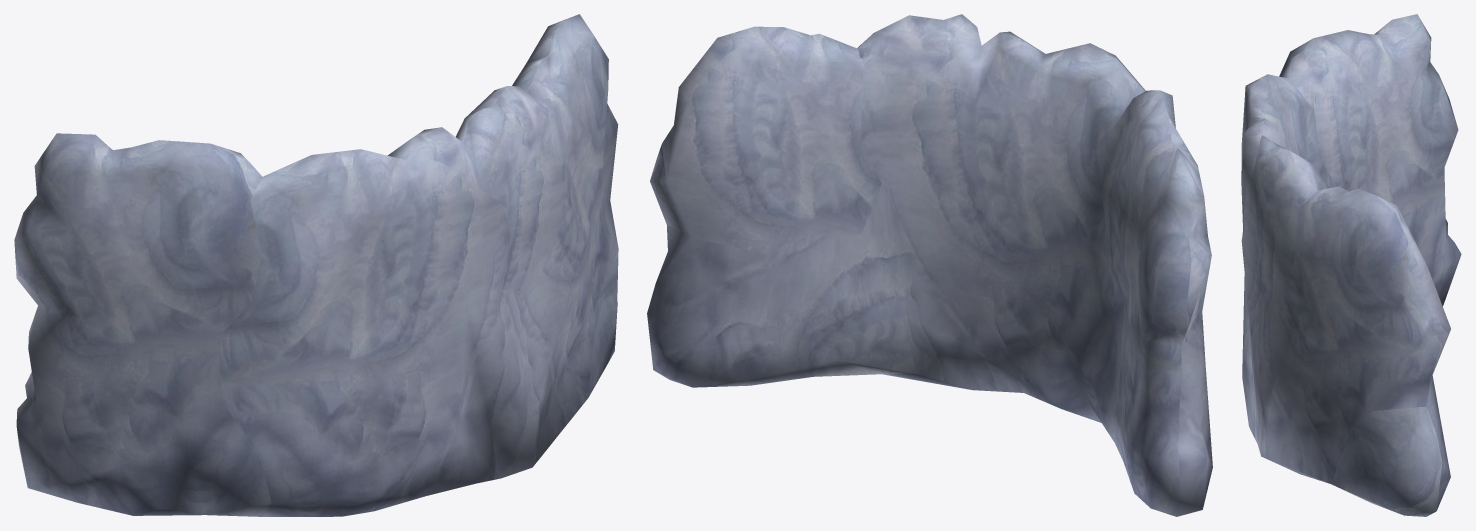
Rendered from gloowall.glb.
3 renders of one model, left to right at view 1: azimuth 30°, elevation 25°; view 2: azimuth 150°, elevation 25°; view 3: azimuth 270°, elevation 25°, orthographic. The views are drawn at different scales.
Parts seen in each view (by area): view 1: IceWall_Bunker; view 2: IceWall_Bunker; view 3: IceWall_Bunker.
Part boxes in pixels (bbox=[...]): IceWall_Bunker: bbox=[14, 14, 618, 516]; IceWall_Bunker: bbox=[647, 14, 1212, 516]; IceWall_Bunker: bbox=[1241, 14, 1461, 516].
Bounding box in the file's own units: 4.01 × 2.42 × 1.58.
Materials: 1 (1 with a texture image).
